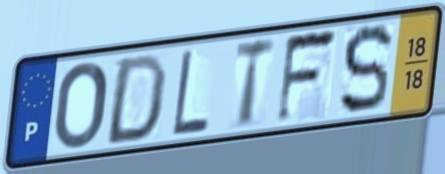D: (101, 50, 171, 148)
F: (273, 25, 341, 129)
L: (170, 46, 211, 137)
O: (52, 58, 111, 152)
S: (337, 21, 395, 119)
T: (232, 34, 278, 132)
